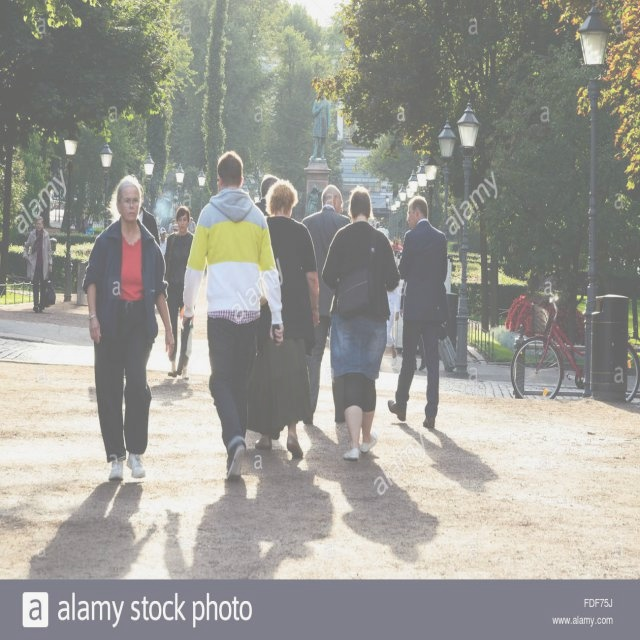pessoa: (180, 148, 285, 483), (29, 480, 334, 583), (80, 172, 176, 483), (320, 185, 402, 462), (255, 180, 320, 456), (386, 193, 448, 430), (300, 184, 352, 416), (340, 459, 440, 567), (396, 420, 502, 494), (162, 203, 196, 380), (403, 228, 441, 372), (22, 214, 56, 314), (308, 90, 332, 162), (138, 182, 162, 248), (386, 286, 401, 368), (254, 172, 278, 218), (305, 180, 320, 225), (76, 212, 88, 246), (158, 226, 168, 257), (84, 221, 95, 245), (168, 217, 180, 233), (187, 217, 197, 235), (371, 217, 381, 229)
